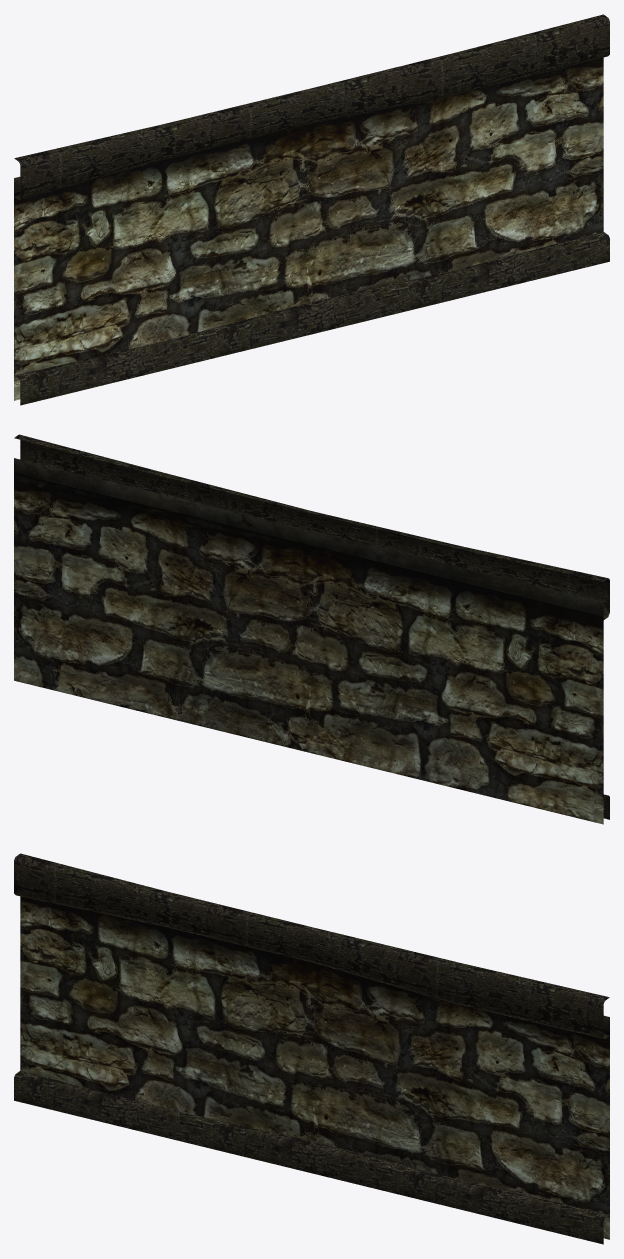
The model's file is cellar_wall_06.DAE.
3 renders of one model, top to bottom at view 1: azimuth 30°, elevation 25°; view 2: azimuth 150°, elevation 25°; view 3: azimuth 330°, elevation 25°, orthographic.
Parts seen in each view (by area): view 1: Box022, Box023; view 2: Box022, Box023; view 3: Box022, Box023.
Boxes of the visible parts, x1=… form: Box022: x1=14, y1=57, x2=603, y2=400; Box023: x1=14, y1=14, x2=609, y2=405; Box022: x1=14, y1=458, x2=603, y2=824; Box023: x1=14, y1=434, x2=609, y2=819; Box022: x1=20, y1=896, x2=609, y2=1239; Box023: x1=14, y1=853, x2=609, y2=1244.
Bounding box in the file's own units: 4 × 1.57 × 0.0821.
